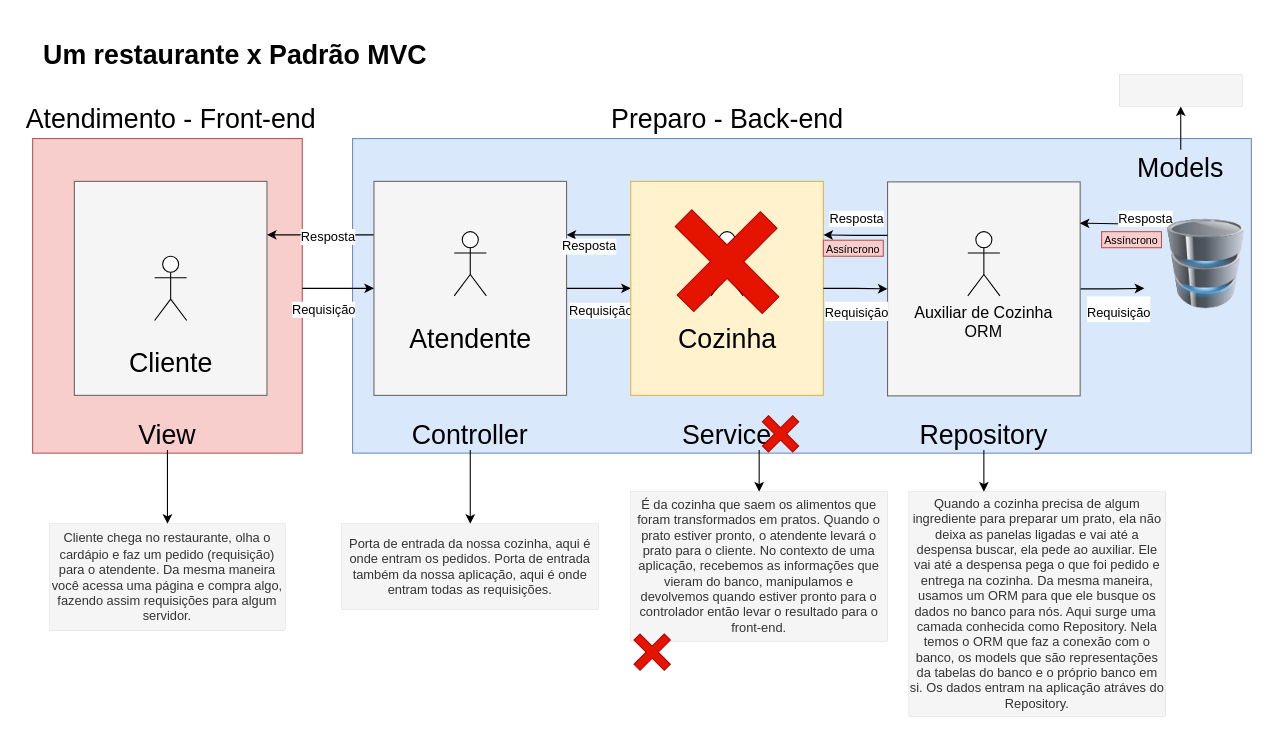
The diagram is 1270 pixels wide and 734 high, and some of its shapes have lost their labels. The box of each missing label's shape, as (x1, y1, x2, y2) in pixels:
Representações das nossas tabelas: (1119, 74, 1242, 106)
SGBD Banco MySQL: (1161, 218, 1251, 308)
